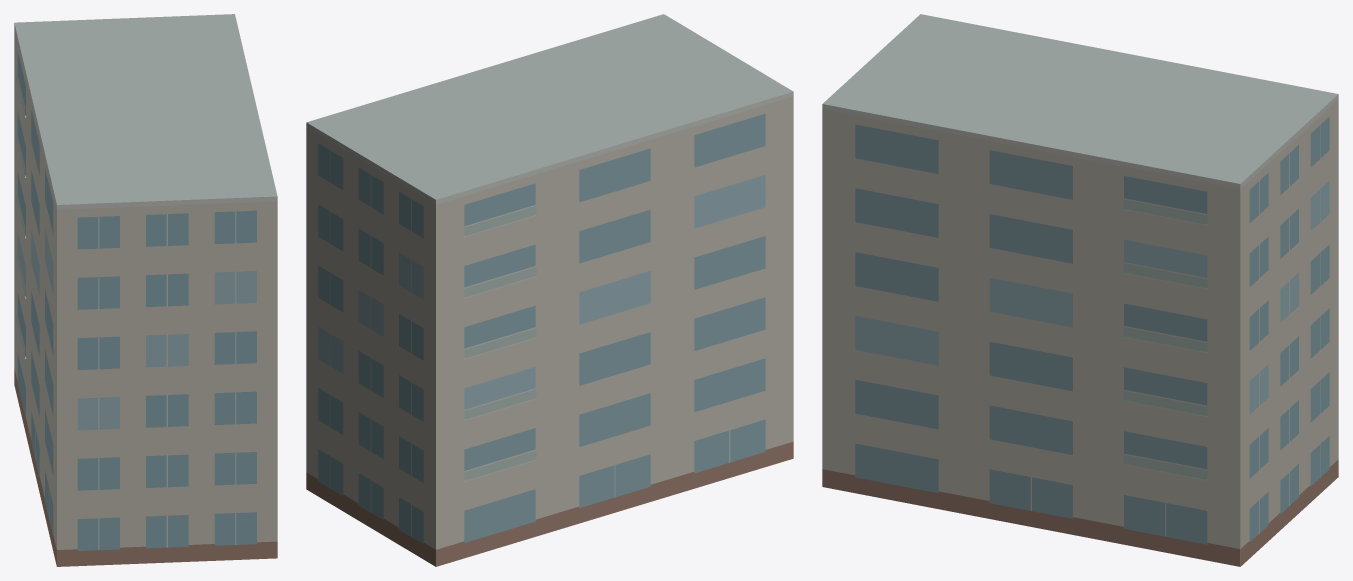
Rendered from survey-upis-32658798.glb.
3 views of the same model, side by side, from view 1: azimuth 30°, elevation 25°; view 2: azimuth 150°, elevation 25°; view 3: azimuth 270°, elevation 25° (orthographic). The views are drawn at different scales.
Parts seen in each view (by area): view 1: survey-upis-32658798.tmp; view 2: survey-upis-32658798.tmp; view 3: survey-upis-32658798.tmp.
Part boxes in pixels (x1,y1,x2,y2): survey-upis-32658798.tmp: (14, 14, 277, 566); survey-upis-32658798.tmp: (306, 14, 793, 566); survey-upis-32658798.tmp: (822, 14, 1338, 566).
Size of the model in its own units: 17.43 by 18.3 by 22.37.
